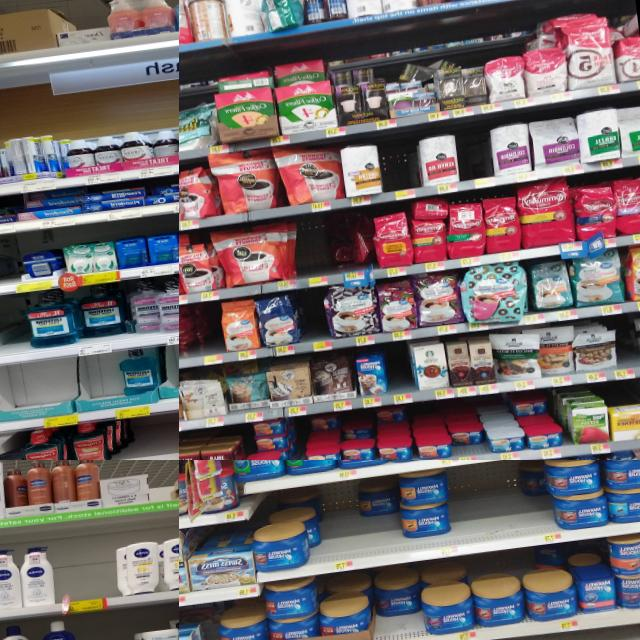100- O.O.S: (450, 462, 525, 554), (50, 542, 117, 612), (320, 481, 366, 572), (455, 128, 495, 190), (378, 142, 418, 202), (298, 218, 332, 287), (134, 413, 179, 460), (298, 288, 330, 353), (0, 299, 31, 362), (382, 342, 412, 404), (612, 313, 639, 380), (197, 301, 224, 366), (79, 616, 119, 640), (0, 247, 21, 292)
